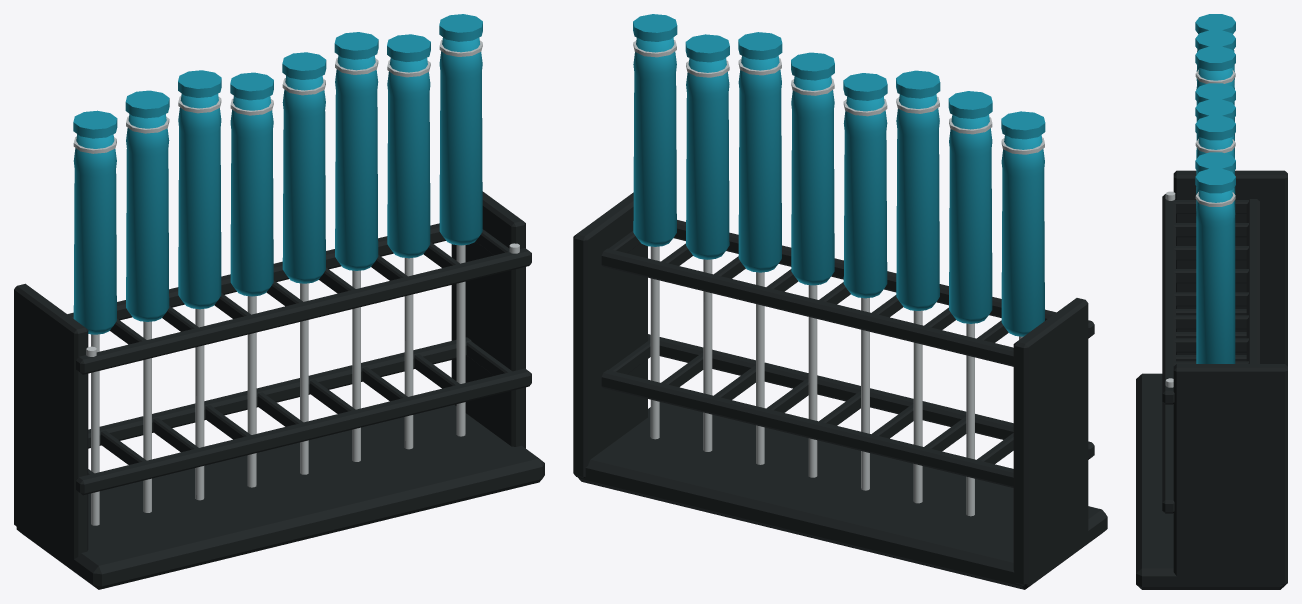
The model's file is lod2_source.glb.
3 views of the same model, side by side, from view 1: azimuth 30°, elevation 25°; view 2: azimuth 150°, elevation 25°; view 3: azimuth 270°, elevation 25° (orthographic). The views are drawn at different scales.
Visible parts, largest first — view 1: Black rack base, Rack upright, Rack upright.001, Rack horizontal holder rail, Rack horizontal holder rail.002, Blue anodised grip 05, Blue anodised grip 02, Blue anodised grip 04, Blue anodised grip 07, Blue anodised grip 01, Blue anodised grip 03, Blue anodised grip 06 (+23 smaller); view 2: Black rack base, Rack upright, Rack upright.001, Blue anodised grip 02, Blue anodised grip 05, Blue anodised grip 04, Blue anodised grip 07, Blue anodised grip 01, Blue anodised grip 06, Rack horizontal holder rail.001, Rack horizontal holder rail.003, Blue anodised grip 03 (+18 smaller); view 3: Rack upright.001, Rack upright, Black rack base, Blue anodised grip 07, Rack horizontal holder rail.002, Rack horizontal holder rail.003, Rack horizontal holder rail, Blue rotating end cap 05, Blue rotating end cap 07, Blue rotating end cap 02, Blue rotating end cap 04, Blue rotating end cap 03 (+17 smaller).
Part boxes in pixels (<box>): Black rack base: <box>16,404,544,589</box>; Rack upright: <box>14,283,88,558</box>; Rack upright.001: <box>451,191,525,448</box>; Rack horizontal holder rail: <box>76,368,531,495</box>; Rack horizontal holder rail.002: <box>76,248,531,374</box>; Blue anodised grip 05: <box>335,55,378,270</box>; Blue anodised grip 02: <box>178,94,221,309</box>; Blue anodised grip 04: <box>282,75,325,283</box>; Blue anodised grip 07: <box>439,37,482,245</box>; Blue anodised grip 01: <box>126,114,169,321</box>; Blue anodised grip 03: <box>230,96,273,296</box>; Blue anodised grip 06: <box>387,58,430,258</box>; Black rack base: <box>577,402,1107,589</box>; Rack upright: <box>1013,298,1088,586</box>; Rack upright.001: <box>573,192,647,477</box>; Blue anodised grip 02: <box>896,94,939,310</box>; Blue anodised grip 05: <box>738,55,781,272</box>; Blue anodised grip 04: <box>791,76,834,285</box>; Blue anodised grip 07: <box>633,37,676,246</box>; Blue anodised grip 01: <box>949,114,992,323</box>; Blue anodised grip 06: <box>686,58,729,259</box>; Rack horizontal holder rail.001: <box>601,370,1047,491</box>; Rack horizontal holder rail.003: <box>601,248,1047,370</box>; Blue anodised grip 03: <box>843,96,887,298</box>; Rack upright.001: <box>1173,364,1287,585</box>; Rack upright: <box>1173,170,1287,366</box>; Black rack base: <box>1136,373,1284,589</box>; Blue anodised grip 07: <box>1196,190,1235,363</box>; Rack horizontal holder rail.002: <box>1162,194,1175,404</box>; Rack horizontal holder rail.003: <box>1246,199,1259,402</box>; Rack horizontal holder rail: <box>1162,402,1174,513</box>; Blue rotating end cap 05: <box>1195,115,1235,140</box>; Blue rotating end cap 07: <box>1195,168,1235,193</box>; Blue rotating end cap 02: <box>1195,46,1235,70</box>; Blue rotating end cap 04: <box>1195,99,1235,119</box>; Blue rotating end cap 03: <box>1195,83,1235,103</box>.
Size of the model in its own units: 0.314 by 0.296 by 0.101.
